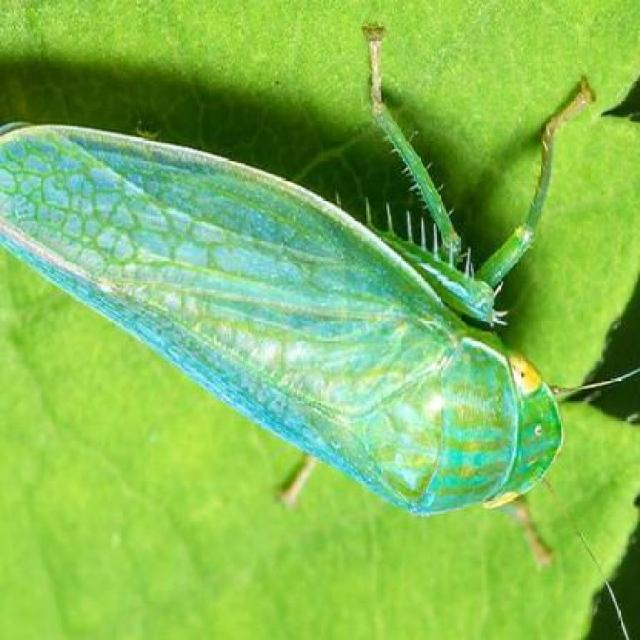green-leafhopper: (11, 127, 552, 518)
